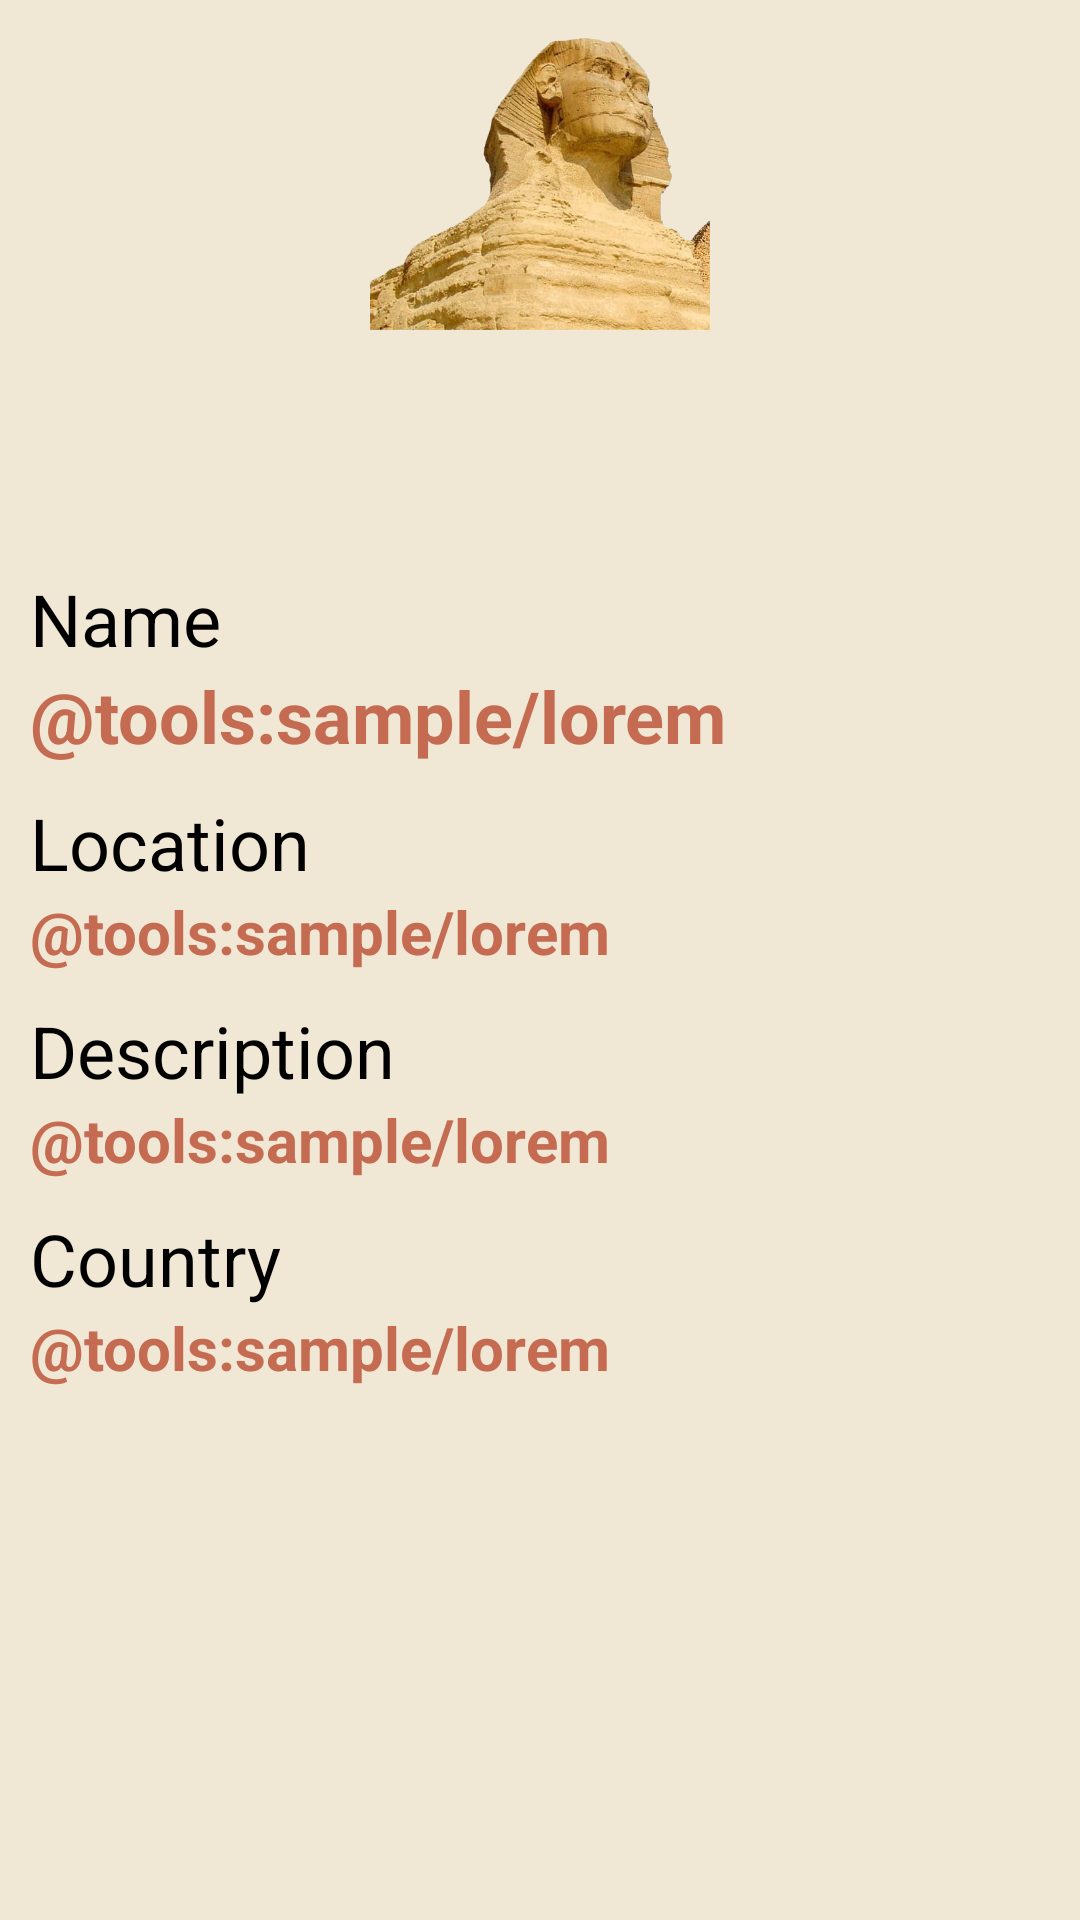

Locate icon controls on the screen. Image size 1080×1920, boxes as (x1, y1, x2, y2).
monument: (370, 38, 710, 330)
